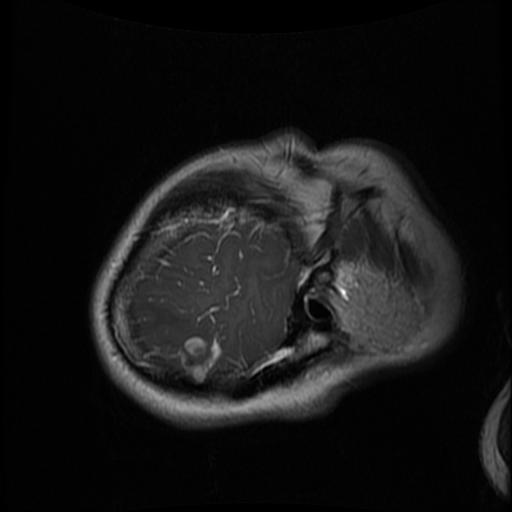glioma: (182, 337, 207, 356)
